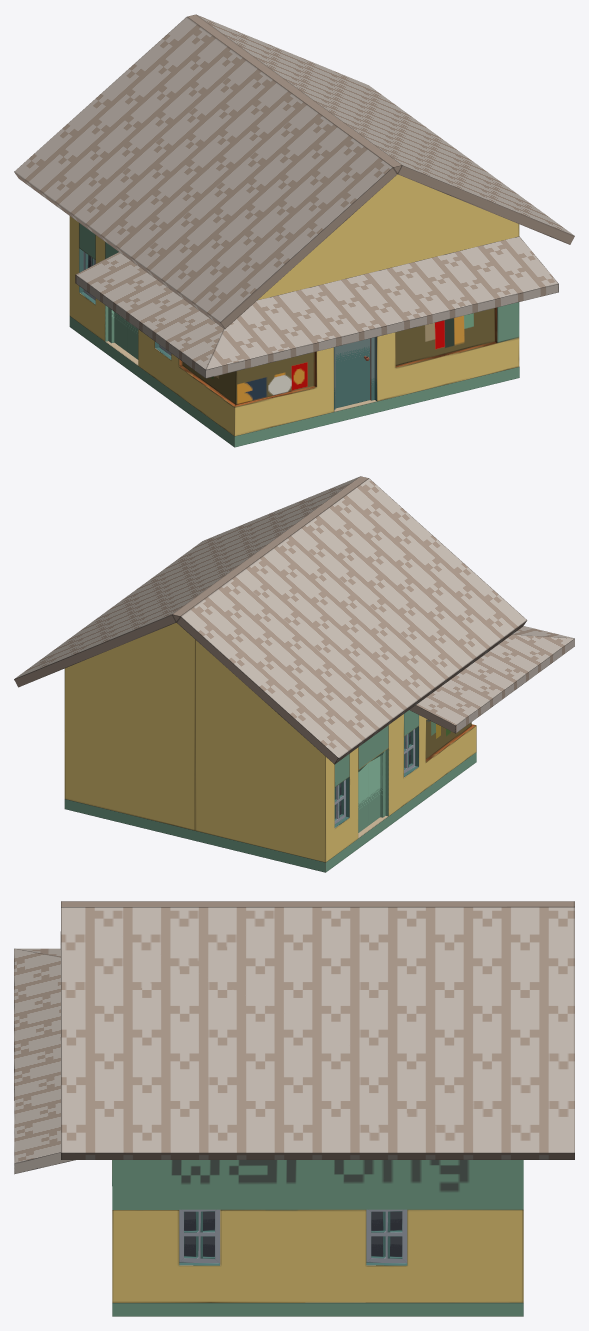
Rendered from warungtextured.fbx.
3 renders of one model, top to bottom at view 1: azimuth 30°, elevation 25°; view 2: azimuth 150°, elevation 25°; view 3: azimuth 270°, elevation 25°, orthographic. The views are drawn at different scales.
Visible parts, largest first — view 1: atapwarung.001, tembokwarung.001, kanopiwarung.001, lantaiwarung.001, pintukanan.001, pintudpn.001; view 2: atapwarung.001, tembokwarung.001, kanopiwarung.001, lantaiwarung.001, pintudpn.001, jendeladpn1.001, jendeladpn2.001; view 3: atapwarung.001, tembokwarung.001, kanopiwarung.001, lantaiwarung.001, jendelablkng2.001, jendelablkng1.001.
Part boxes in pixels (<box>): atapwarung.001: <box>14,14,574,328</box>; tembokwarung.001: <box>69,174,519,436</box>; kanopiwarung.001: <box>75,236,558,378</box>; lantaiwarung.001: <box>69,316,519,447</box>; pintukanan.001: <box>334,337,376,411</box>; pintudpn.001: <box>105,305,138,359</box>; atapwarung.001: <box>14,476,527,764</box>; tembokwarung.001: <box>64,622,476,862</box>; kanopiwarung.001: <box>409,626,574,733</box>; lantaiwarung.001: <box>64,752,476,872</box>; pintudpn.001: <box>358,748,388,832</box>; jendeladpn1.001: <box>334,777,349,827</box>; jendeladpn2.001: <box>404,726,418,776</box>; atapwarung.001: <box>60,901,574,1159</box>; tembokwarung.001: <box>112,1160,523,1302</box>; kanopiwarung.001: <box>14,948,75,1174</box>; lantaiwarung.001: <box>112,1160,523,1316</box>; jendelablkng2.001: <box>366,1209,407,1265</box>; jendelablkng1.001: <box>179,1209,219,1265</box>.
Bounding box in the file's own units: 1089 × 701 × 1094.
Materials: 7 (7 with a texture image).
